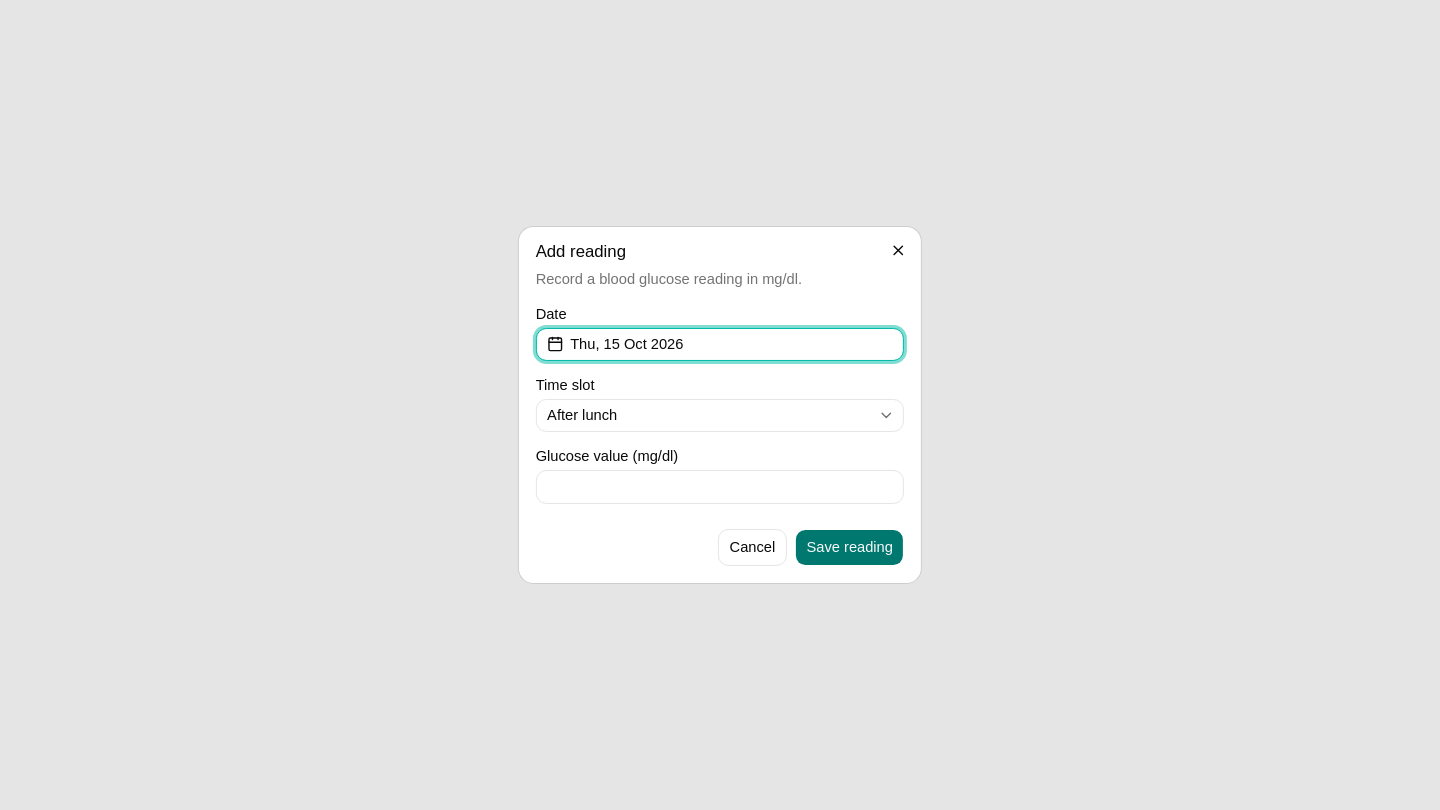
Scenario: ReadingDialog › shows a slot conflict on the slot field and keeps the dialog open
Type "120" into the field labelled "Glucose value (mg/dl)" at point(720, 487), box [536, 470, 904, 503]
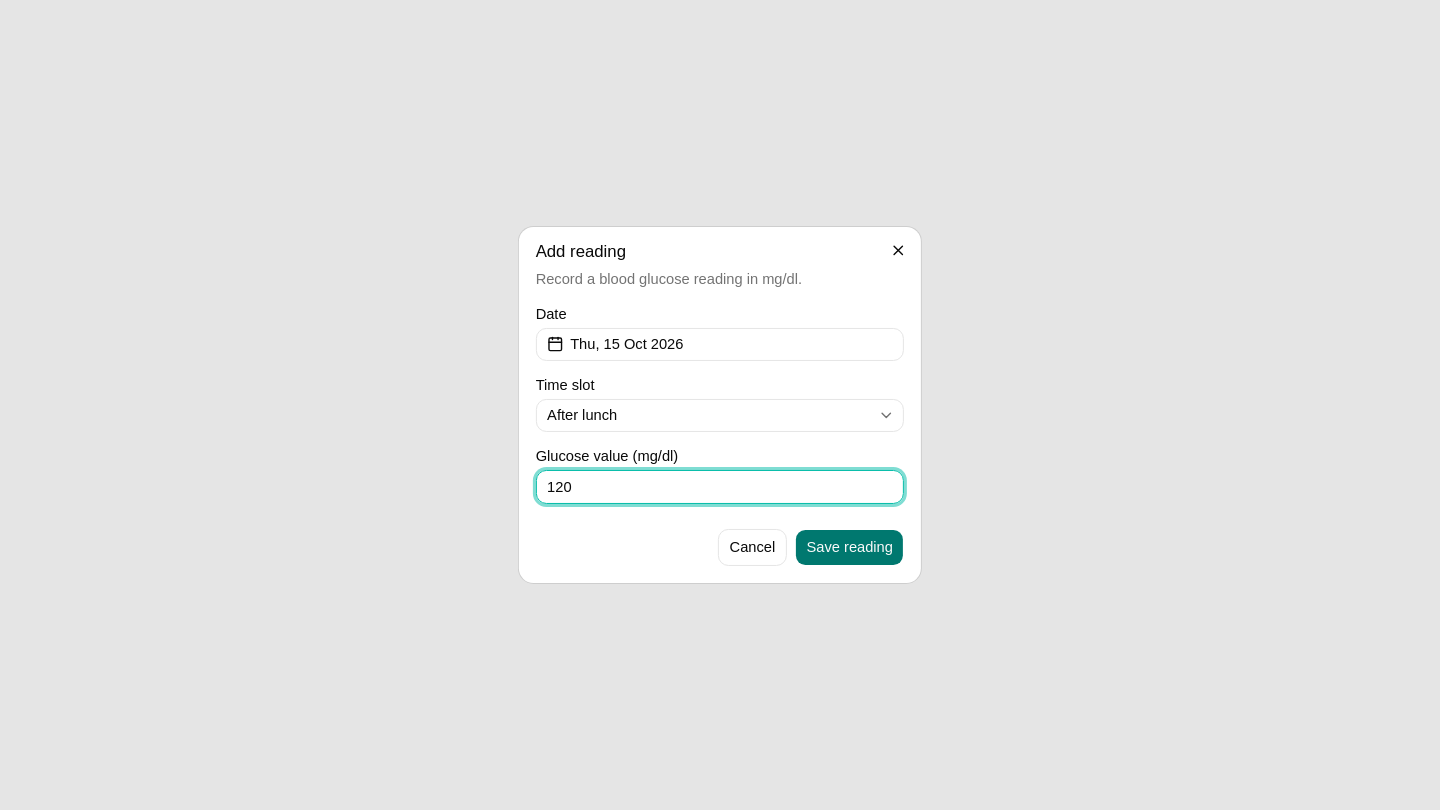
Click the button "Save reading" at point(850, 547), box [795, 529, 904, 566]
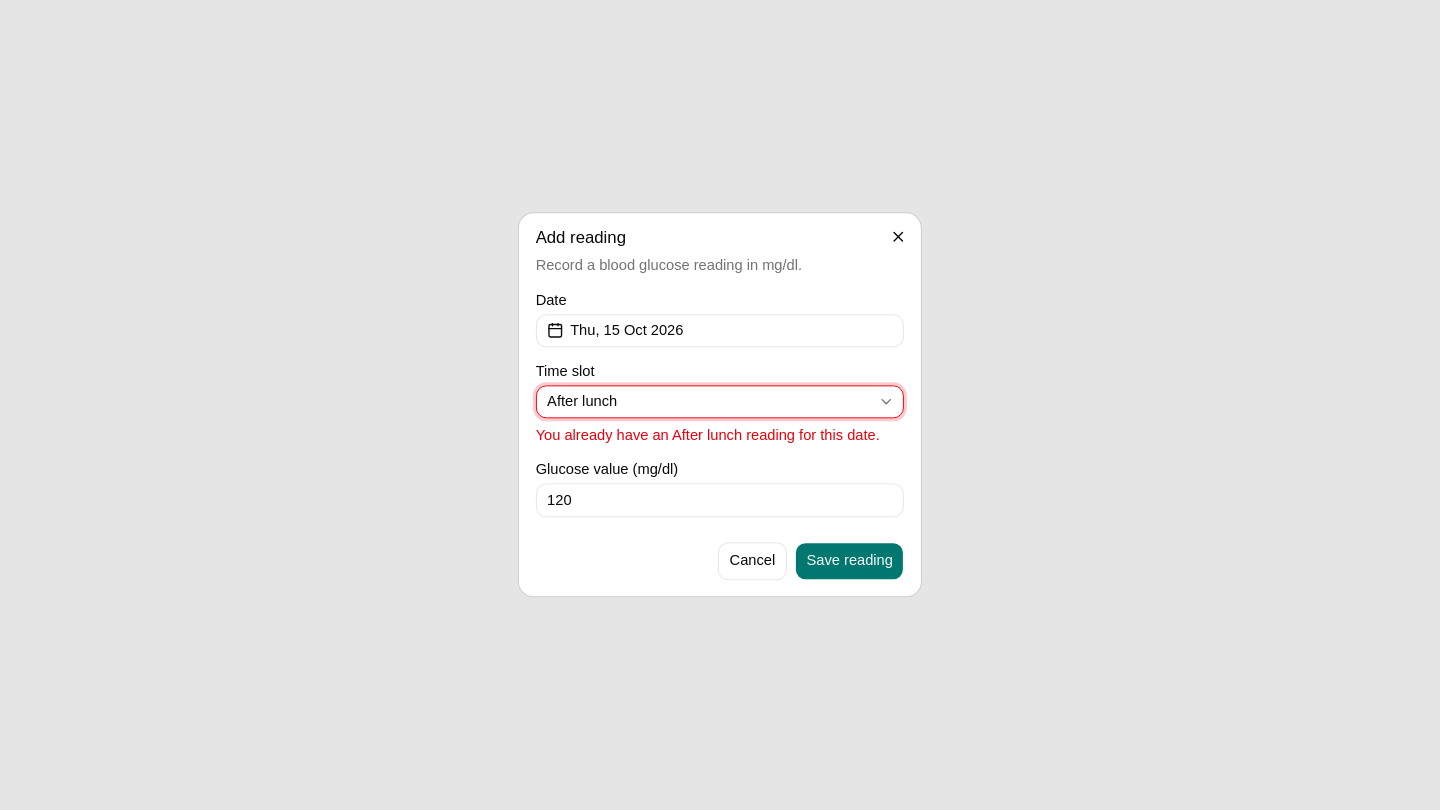
Expected: the dialog is shown, [519, 213, 921, 597]
Now the text "You already have an After lunch reading for this date." is shown, box [536, 425, 904, 446]
